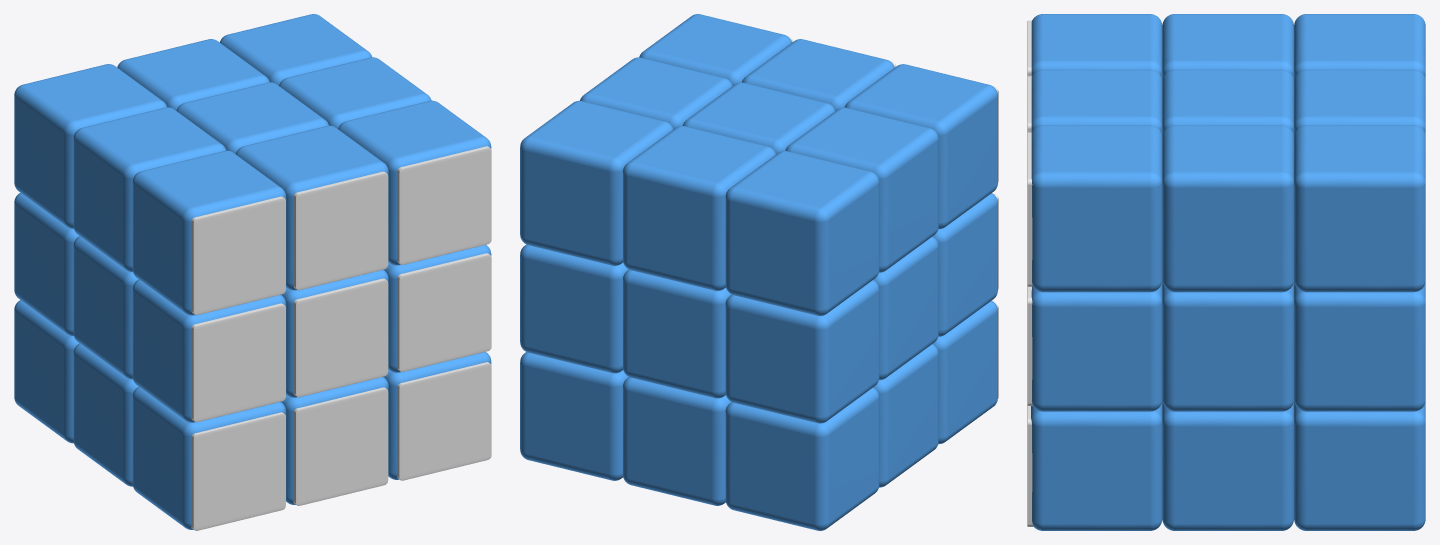
Rendered from all-in-one.glb.
3 renders of one model, left to right at view 1: azimuth 30°, elevation 25°; view 2: azimuth 150°, elevation 25°; view 3: azimuth 270°, elevation 25°, orthographic. The views are drawn at different scales.
Visible parts, largest first — view 1: RUBIKS_CUBE, Box, Box 7, Box 4, Box 1, Box 2, Box 6, Box 8, Box 3, Box 5; view 2: RUBIKS_CUBE; view 3: RUBIKS_CUBE, Box 8, Box 1, Box 5.
Boxes of the visible parts, box(x1,y1,x2,y2) form: RUBIKS_CUBE: box(14, 14, 491, 529); Box: box(293, 278, 388, 397); Box 7: box(293, 171, 388, 290); Box 4: box(293, 387, 388, 505); Box 1: box(397, 253, 491, 371); Box 2: box(191, 303, 285, 422); Box 6: box(191, 196, 285, 315); Box 8: box(397, 146, 491, 264); Box 3: box(191, 412, 285, 530); Box 5: box(397, 362, 491, 480); RUBIKS_CUBE: box(520, 14, 997, 530); RUBIKS_CUBE: box(1031, 14, 1425, 530); Box 8: box(1027, 132, 1032, 286); Box 1: box(1027, 286, 1032, 405); Box 5: box(1027, 406, 1033, 526).
Bounding box in the file's own units: 0.04 × 0.04 × 0.0403.
